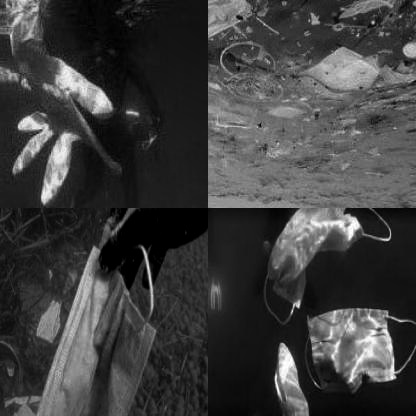Mask: (19, 231, 170, 415), (253, 208, 393, 331), (302, 289, 416, 400), (27, 292, 66, 352), (208, 0, 255, 45)
glove: (1, 0, 125, 207)
